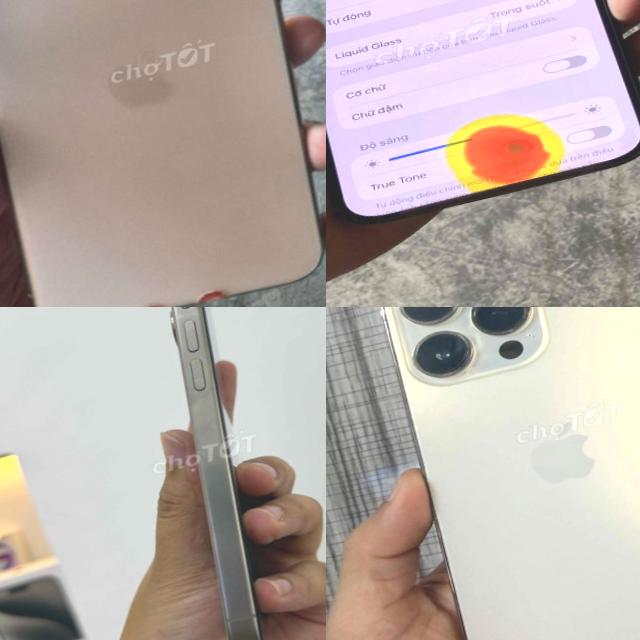screen_defect: (426, 76, 570, 210)
